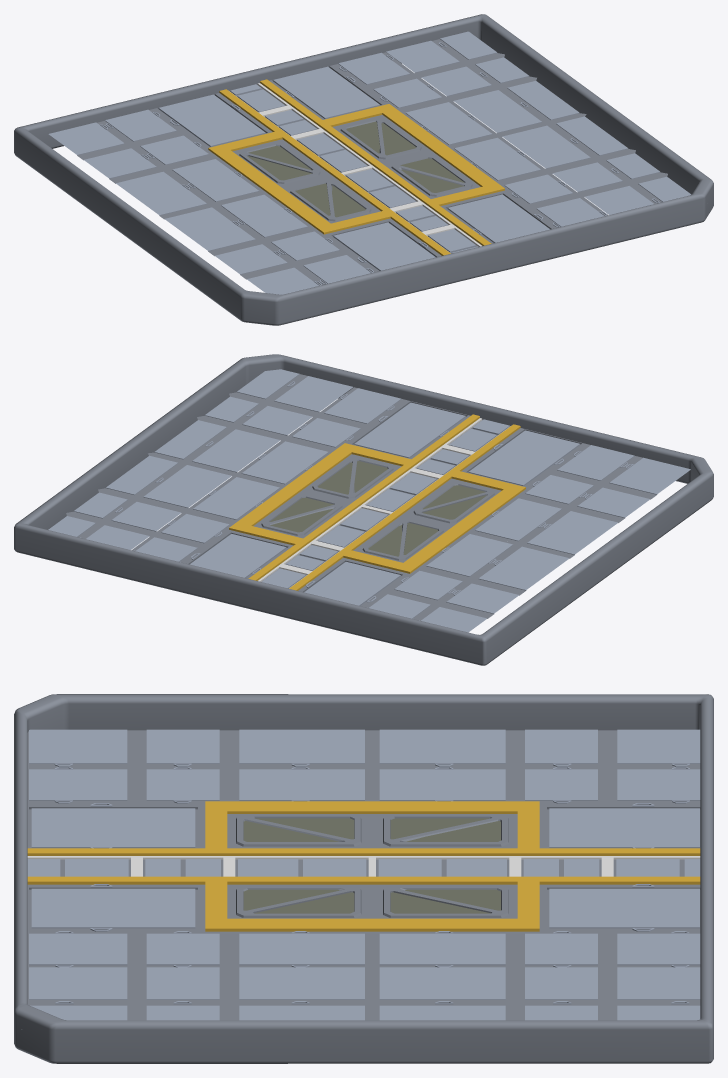
The model's file is Level35_Ground.fbx.
3 views of the same model, one above another, from view 1: azimuth 30°, elevation 25°; view 2: azimuth 150°, elevation 25°; view 3: azimuth 270°, elevation 25° (orthographic). The views are drawn at different scales.
Parts seen in each view (by area): view 1: Border1, pCube100 (×4), pCube95 (×2), pCube113 (×2), pCube111 (×2), pPlane1 (×4), pCube87 (×4); view 2: Border1, pCube100 (×4), pCube95 (×2), pCube113 (×2), pCube111 (×2), pPlane1 (×4), pCube87 (×4); view 3: pCube100 (×4), pCube95 (×2), Border1, pCube113 (×2), pCube111 (×2), pPlane1 (×4), pCube87 (×4).
Part boxes in pixels (x1,y1,x2,y2): Border1: [14, 14, 713, 325]; pCube100 (×4): [48, 93, 441, 294]; pCube95 (×2): [219, 52, 607, 255]; pCube113 (×2): [386, 40, 656, 214]; pCube111 (×2): [436, 31, 691, 202]; pPlane1 (×4): [247, 121, 464, 217]; pCube87 (×4): [239, 118, 472, 221]; Border1: [14, 354, 713, 665]; pCube100 (×4): [298, 428, 690, 632]; pCube95 (×2): [132, 387, 520, 590]; pCube113 (×2): [82, 375, 353, 549]; pCube111 (×2): [48, 369, 303, 537]; pPlane1 (×4): [270, 461, 486, 556]; pCube87 (×4): [261, 457, 494, 560]; pCube100 (×4): [27, 729, 700, 848]; pCube95 (×2): [27, 848, 700, 968]; Border1: [14, 694, 713, 1063]; pCube113 (×2): [27, 967, 700, 1003]; pCube111 (×2): [21, 1003, 700, 1029]; pPlane1 (×4): [243, 818, 500, 913]; pCube87 (×4): [236, 814, 508, 917].
Bounding box in the file's own units: 641 × 36.61 × 570.
